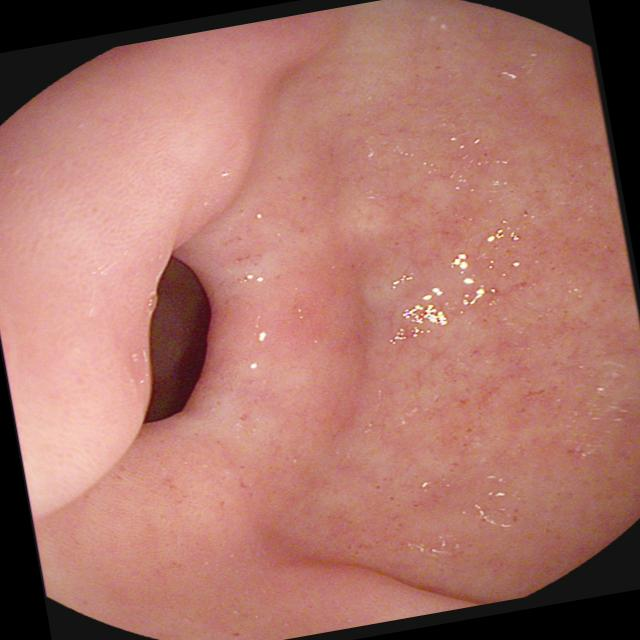normal-pylorus: (0, 11, 353, 515)
